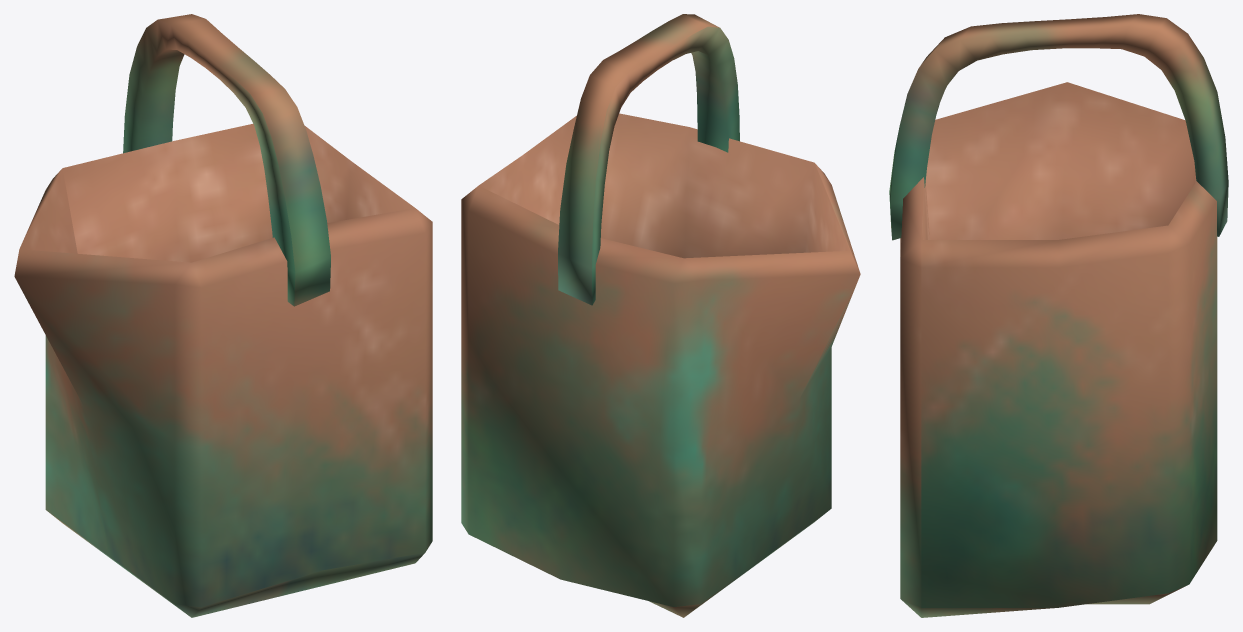
Rendered from pail.glb.
The picture shows the model from 3 angles, left to right: view 1: azimuth 30°, elevation 25°; view 2: azimuth 150°, elevation 25°; view 3: azimuth 270°, elevation 25°; orthographic projection. The views are drawn at different scales.
Visible parts, largest first — view 1: bucket-kine, handle; view 2: bucket-kine, handle; view 3: bucket-kine, handle.
Part boxes in pixels (left/top/right/bottom): bucket-kine: left=14, top=124, right=432, bottom=617; handle: left=123, top=14, right=330, bottom=306; bucket-kine: left=461, top=113, right=860, bottom=617; handle: left=558, top=14, right=739, bottom=305; bucket-kine: left=900, top=82, right=1217, bottom=617; handle: left=889, top=14, right=1228, bottom=240.
Bounding box in the file's own units: 0.6382 × 0.8667 × 0.5004.
1 material, 1 textured.
